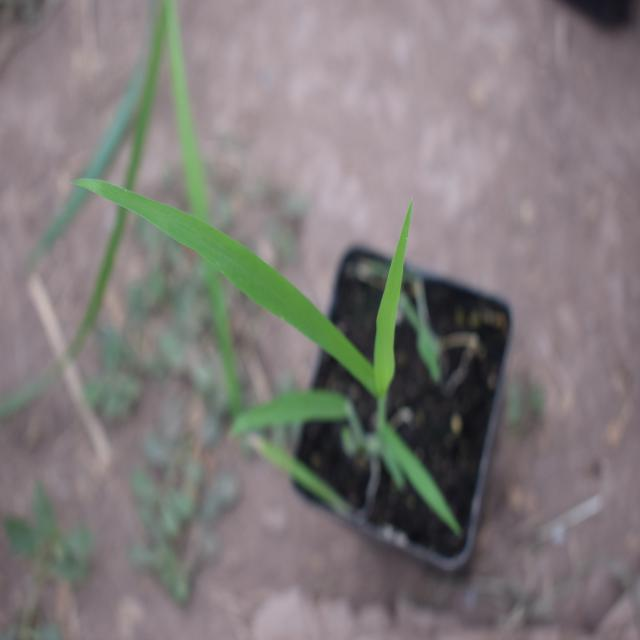crabgrass: (78, 162, 446, 508)
